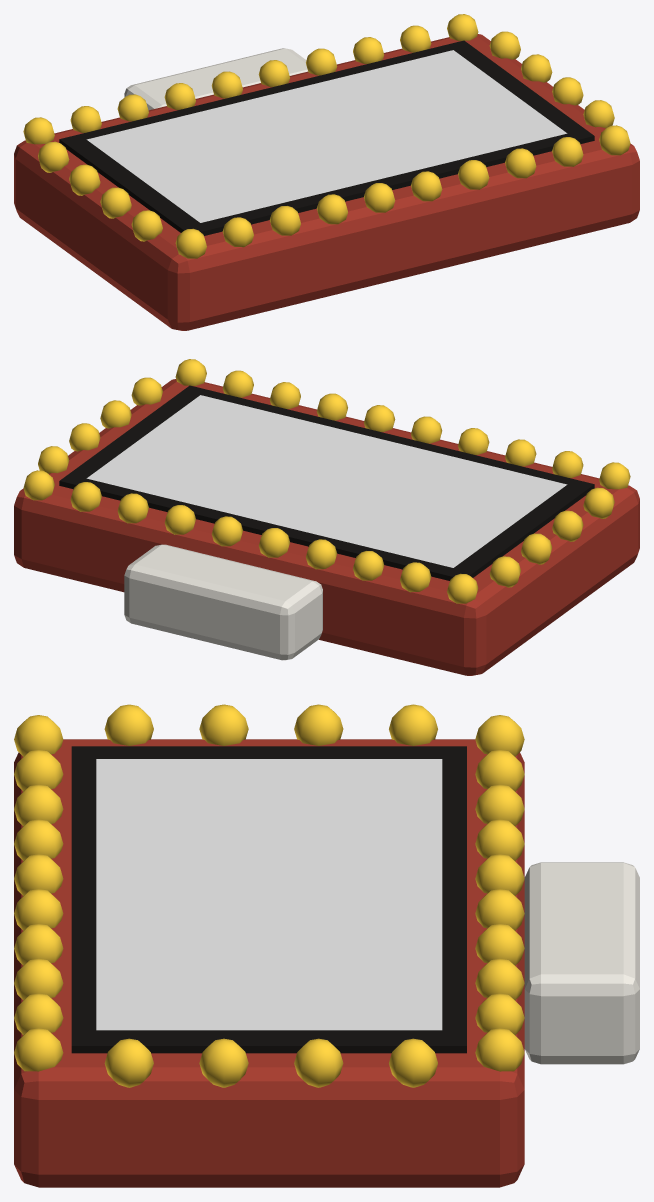
The model's file is kc_letreiro.glb.
3 renders of one model, top to bottom at view 1: azimuth 30°, elevation 25°; view 2: azimuth 150°, elevation 25°; view 3: azimuth 270°, elevation 25°, orthographic. The views are drawn at different scales.
Visible parts, largest first — view 1: Cube, screen, Cube.001, Cube.002, Sphere.022, Sphere.024, Sphere.020, Sphere.026, Sphere.015, Sphere.011, Sphere.019, Sphere.007 (+20 smaller); view 2: Cube, screen, Cube.002, Cube.001, Sphere.024, Sphere.022, Sphere.026, Sphere.014, Sphere.010, Sphere.018, Sphere.006, Sphere.020 (+20 smaller); view 3: screen, Cube, Cube.001, Cube.002, Sphere.025, Sphere.021, Sphere.023, Sphere.027, Sphere.018, Sphere.019, Sphere.020, Sphere.024 (+20 smaller).
Boxes of the visible parts, x1=… form: Cube: x1=14, y1=34, x2=639, y2=330; screen: x1=86, y1=50, x2=567, y2=222; Cube.001: x1=59, y1=40, x2=594, y2=235; Cube.002: x1=124, y1=48, x2=307, y2=110; Sphere.022: x1=100, y1=187, x2=131, y2=218; Sphere.024: x1=69, y1=164, x2=100, y2=195; Sphere.020: x1=131, y1=210, x2=162, y2=241; Sphere.026: x1=38, y1=141, x2=69, y2=172; Sphere.015: x1=505, y1=148, x2=536, y2=178; Sphere.011: x1=411, y1=171, x2=442, y2=201; Sphere.019: x1=599, y1=125, x2=630, y2=155; Sphere.007: x1=316, y1=194, x2=347, y2=224; Cube: x1=14, y1=379, x2=639, y2=675; screen: x1=86, y1=395, x2=567, y2=567; Cube.002: x1=124, y1=544, x2=322, y2=660; Cube.001: x1=59, y1=385, x2=594, y2=580; Sphere.024: x1=521, y1=533, x2=552, y2=564; Sphere.022: x1=552, y1=510, x2=583, y2=541; Sphere.026: x1=489, y1=556, x2=520, y2=587; Sphere.014: x1=117, y1=493, x2=148, y2=523; Sphere.010: x1=211, y1=516, x2=242, y2=546; Sphere.018: x1=23, y1=470, x2=54, y2=500; Sphere.006: x1=306, y1=539, x2=337, y2=569; Sphere.020: x1=583, y1=487, x2=614, y2=518; screen: x1=96, y1=759, x2=442, y2=1030; Cube: x1=14, y1=739, x2=524, y2=1187; Cube.001: x1=71, y1=746, x2=466, y2=1053; Cube.002: x1=524, y1=862, x2=639, y2=1064; Sphere.025: x1=294, y1=1038, x2=343, y2=1087; Sphere.021: x1=104, y1=1038, x2=153, y2=1087; Sphere.023: x1=199, y1=1038, x2=248, y2=1087; Sphere.027: x1=389, y1=1038, x2=437, y2=1087; Sphere.018: x1=475, y1=1028, x2=524, y2=1071; Sphere.019: x1=14, y1=1028, x2=63, y2=1071; Sphere.020: x1=104, y1=704, x2=153, y2=745; Sphere.024: x1=294, y1=704, x2=343, y2=745.
Size of the model in its own units: 1.02 by 0.2 by 0.76.
